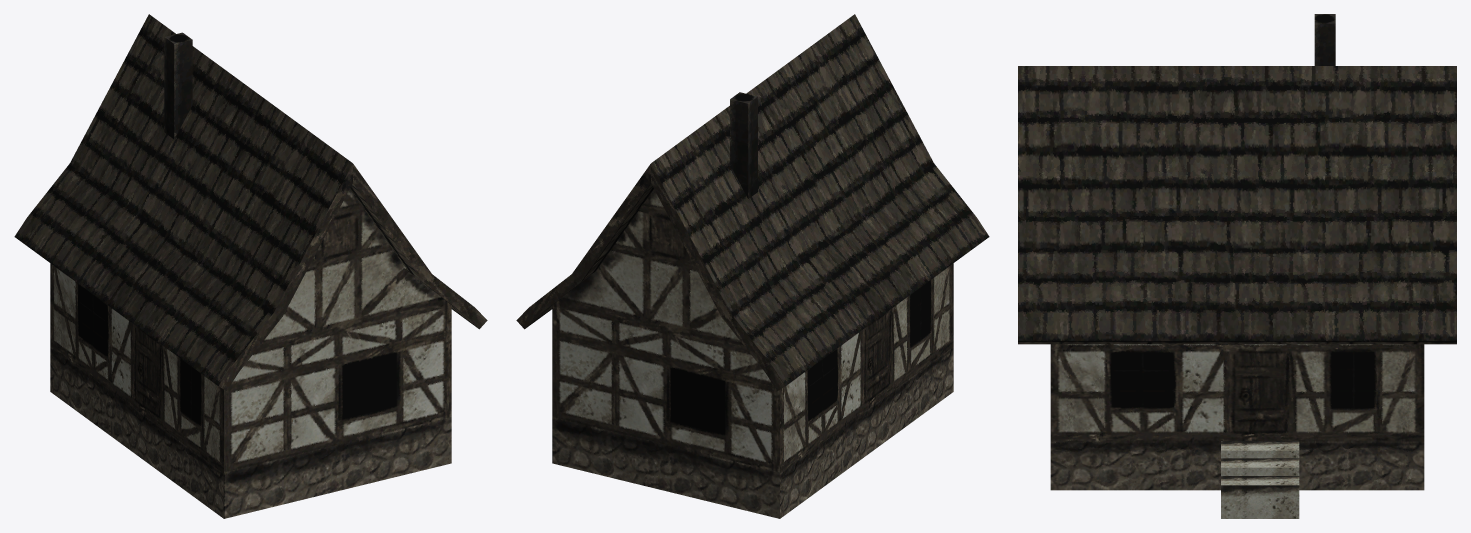
The model's file is 42_inn_dark.dae.
The picture shows the model from 3 angles, left to right: view 1: azimuth 30°, elevation 25°; view 2: azimuth 150°, elevation 25°; view 3: azimuth 270°, elevation 25°; orthographic projection. The views are drawn at different scales.
Parts seen in each view (by area): view 1: Box02; view 2: Box02; view 3: Box02.
Part boxes in pixels (x1,y1,x2,y2): Box02: [14, 14, 487, 518]; Box02: [516, 14, 989, 518]; Box02: [1018, 14, 1456, 518].
Size of the model in its own units: 7.62 by 8.89 by 8.83.
Materials: 1 (1 with a texture image).
